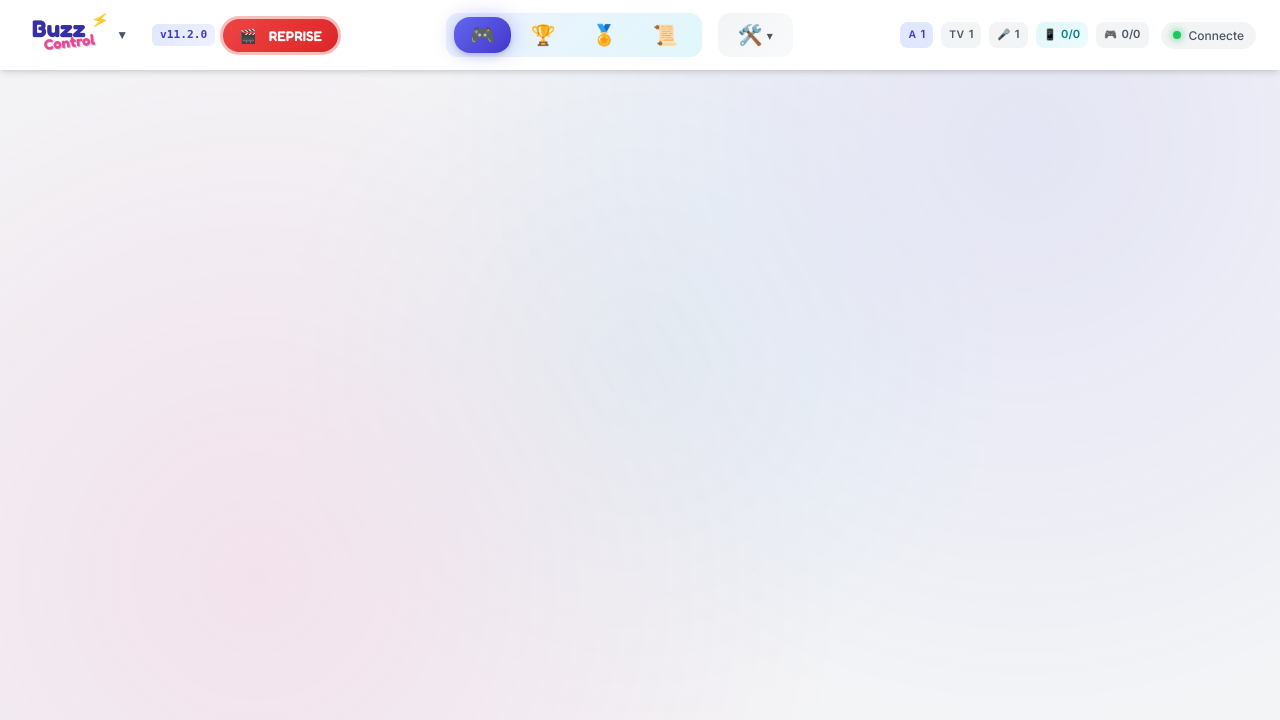
Entrée « Lancer la partie » du menu Préparation (#253) › Critical — pendant une entracte : message, aucune ouverture, aucun OPEN envoyé
This screenshot has width=1280, height=720.
Click the button named "Préparation" at (755, 35), box 726,17 -> 785,53
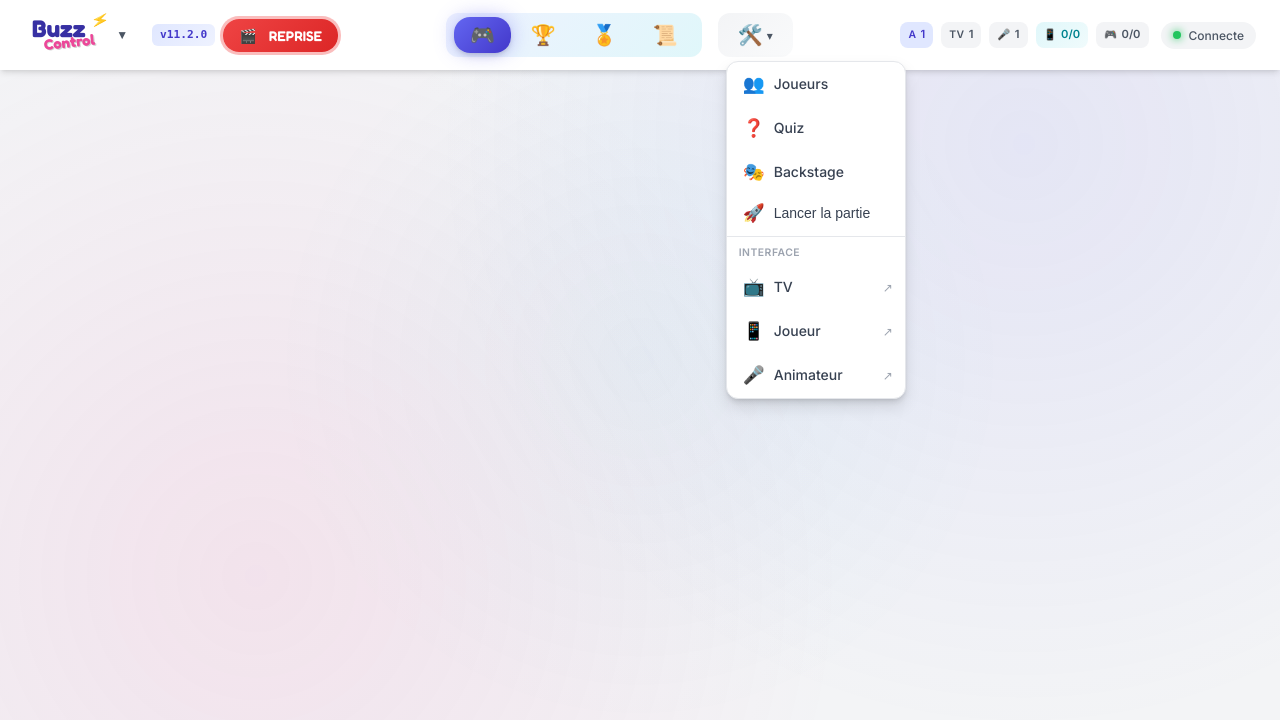
Click the button "🚀 Lancer la partie" at (816, 213), box 727,194 -> 905,232
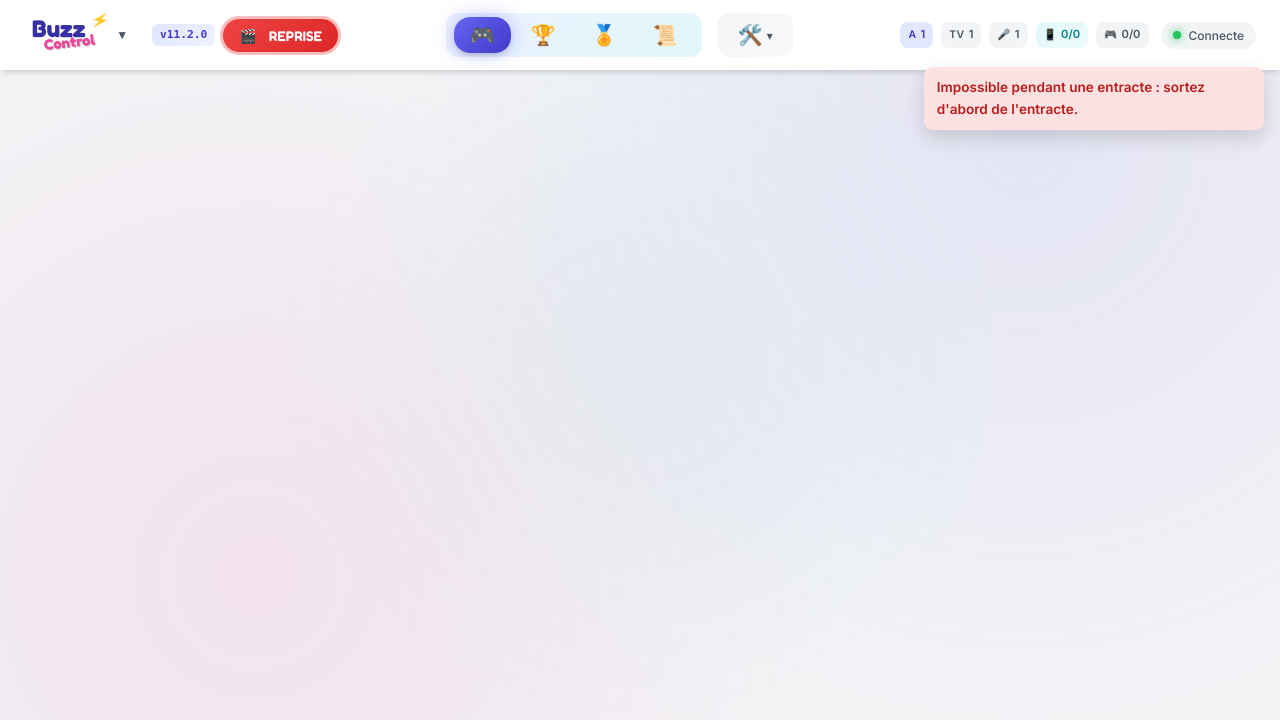
Result: the message reads "Impossible pendant une entracte : sortez d'abord de l'entracte." at 937,79 -> 1205,117
